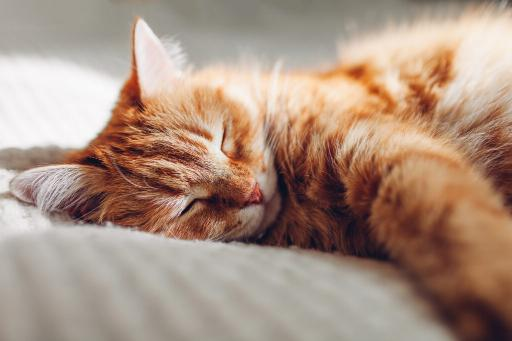cat_sleeping: (11, 15, 512, 340)
